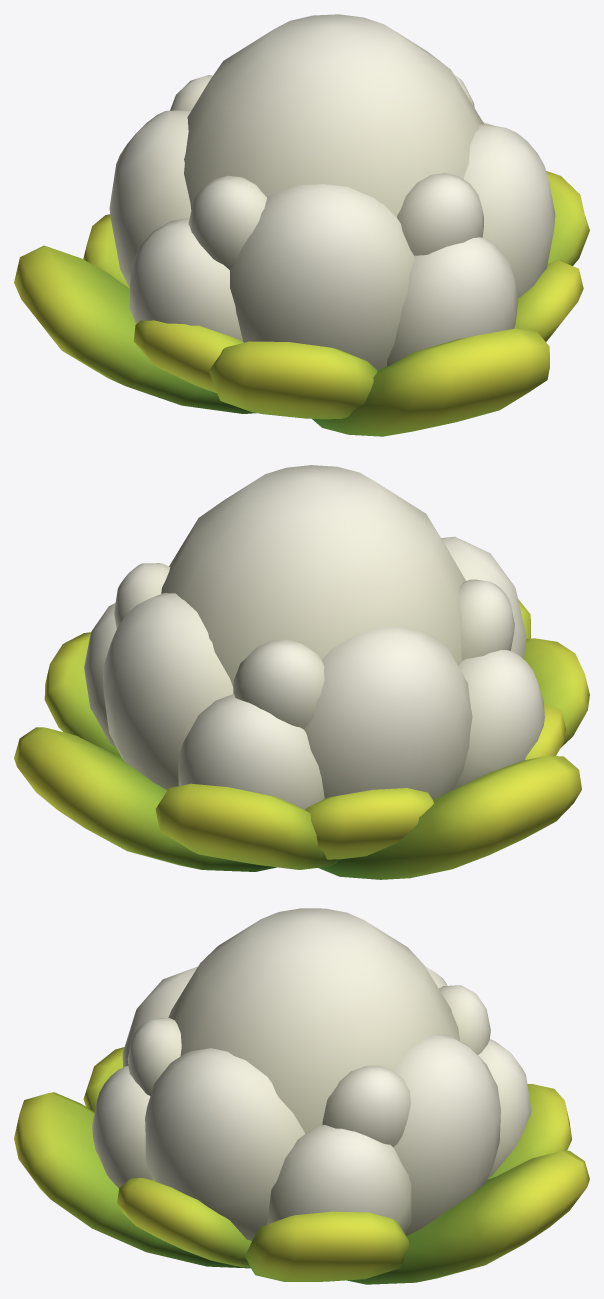
File: Cauliflower.glb
3 renders of one model, top to bottom at view 1: azimuth 30°, elevation 25°; view 2: azimuth 150°, elevation 25°; view 3: azimuth 270°, elevation 25°, orthographic. The views are drawn at different scales.
Visible parts, largest first — view 1: Cauliflower; view 2: Cauliflower; view 3: Cauliflower.
Boxes of the visible parts, x1,y1,x2,y2 form: Cauliflower: (14, 14, 589, 436); Cauliflower: (14, 465, 589, 879); Cauliflower: (14, 908, 589, 1284).
Bounding box in the file's own units: 0.7031 × 0.4633 × 0.7296.
1 material, 1 textured.
